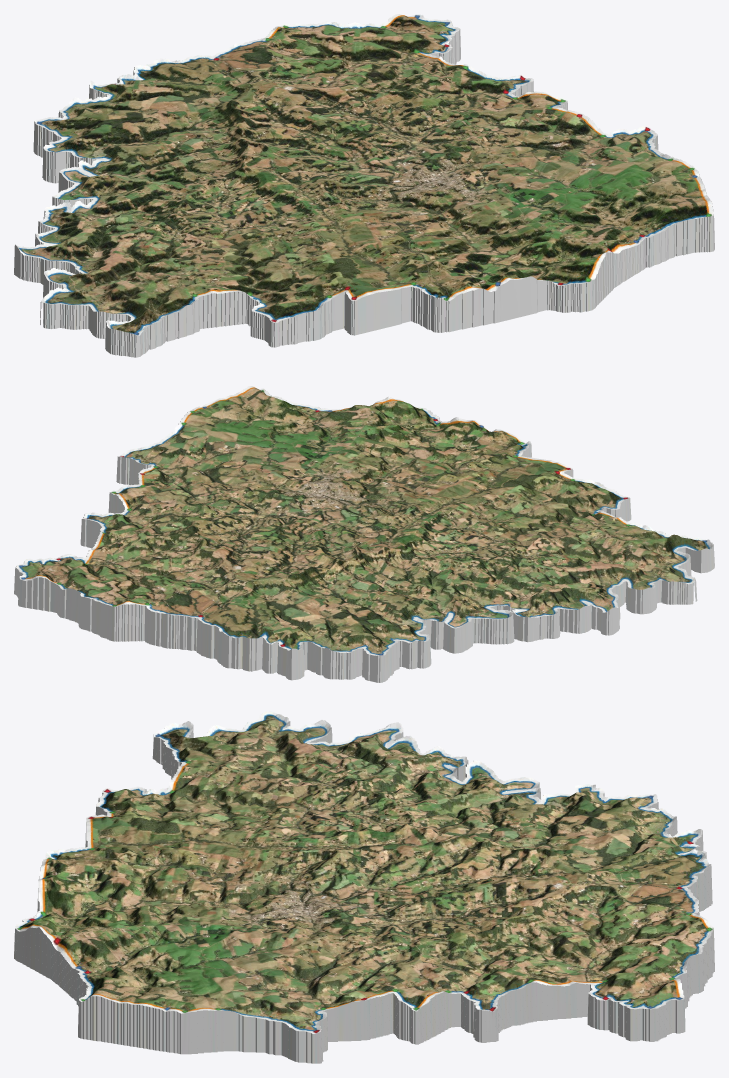
3 renders of one model, top to bottom at view 1: azimuth 30°, elevation 25°; view 2: azimuth 150°, elevation 25°; view 3: azimuth 270°, elevation 25°, orthographic. The views are drawn at different scales.
Size of the model in its own units: 0.9999 by 0.0758 by 0.906.
Materials: 1 (1 with a texture image).
